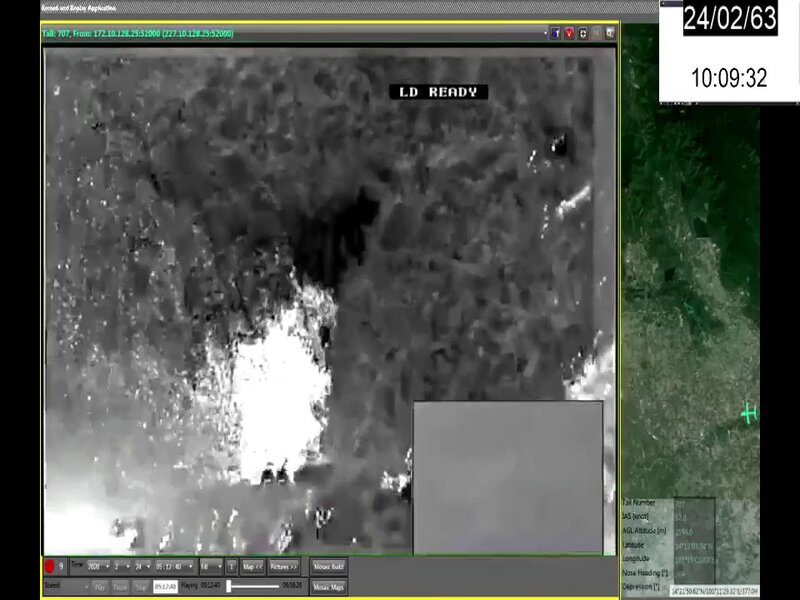Fire: (190, 290, 332, 485)
